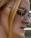without_mask: (1, 2, 31, 38)
